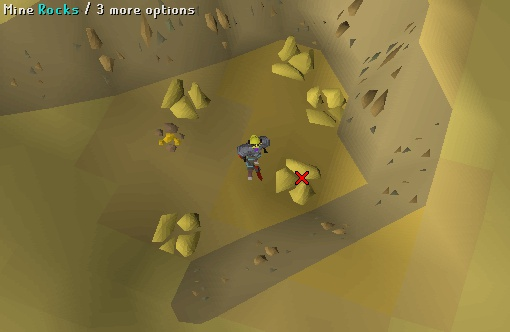gold: (273, 156, 329, 209), (151, 210, 205, 258), (158, 77, 213, 123), (306, 84, 356, 130)
